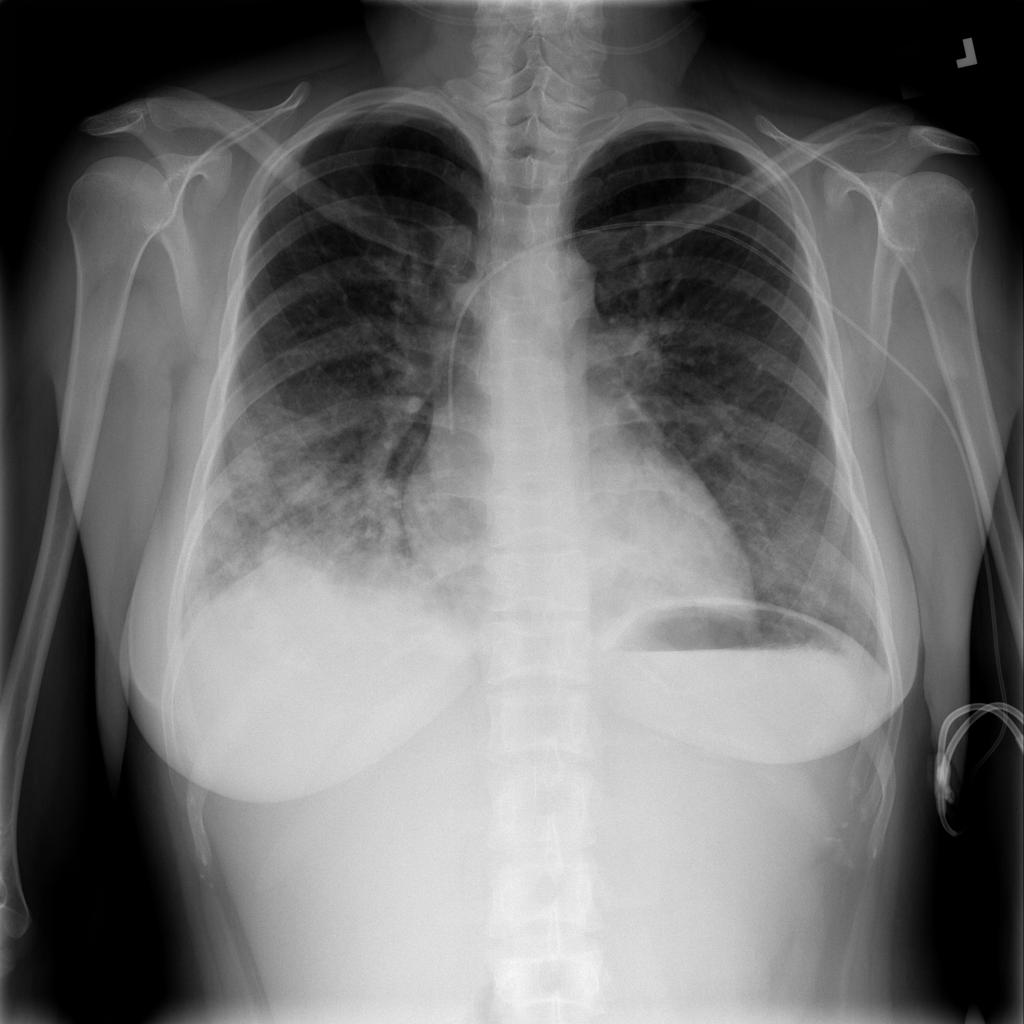nodule: (272, 447, 343, 521), (217, 436, 283, 504)
